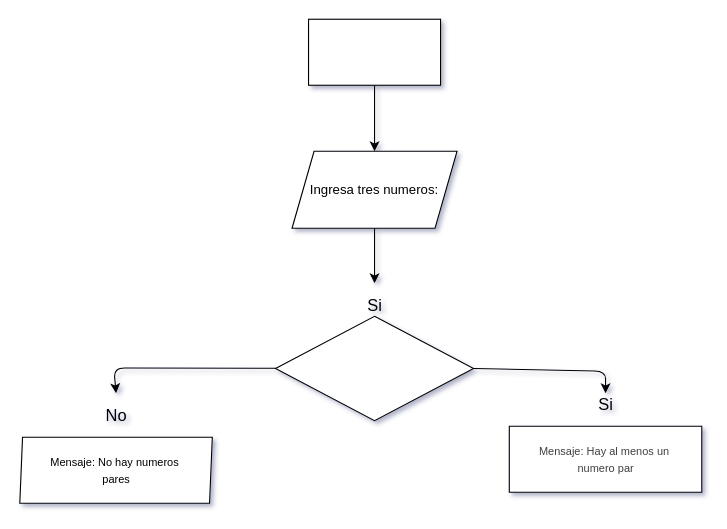
Image size: 727x529. Some labels were removed from this diagram. The box of each missing label's shape, as (x1, y1, x2, y2) in pixels:
Hay al menos un numero par?: (274, 315, 474, 421)
Inicio: (307, 18, 441, 85)
